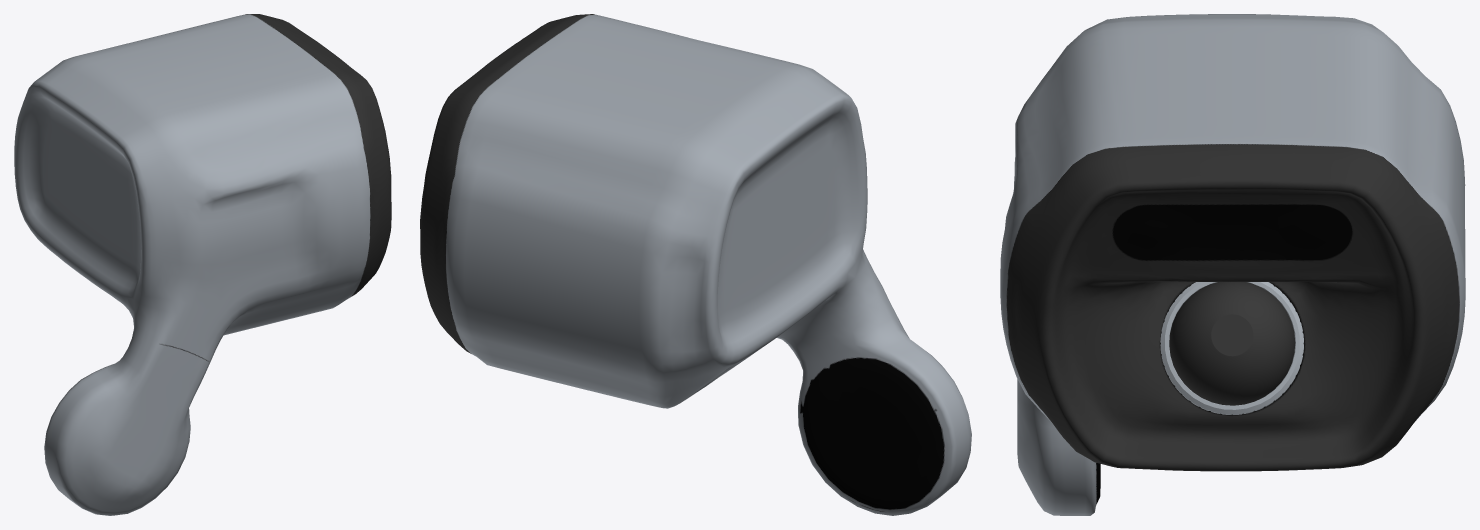
File: head_link2.glb
3 renders of one model, left to right at view 1: azimuth 30°, elevation 25°; view 2: azimuth 150°, elevation 25°; view 3: azimuth 270°, elevation 25°, orthographic. The views are drawn at different scales.
Visible parts, largest first — view 1: head_link2; view 2: head_link2; view 3: head_link2.
Boxes of the visible parts, x1=… form: head_link2: x1=14, y1=14, x2=391, y2=515; head_link2: x1=420, y1=14, x2=971, y2=515; head_link2: x1=1000, y1=14, x2=1465, y2=515.
Bounding box in the file's own units: 0.1975 × 0.2065 × 0.1653.
3 materials, 1 textured.
